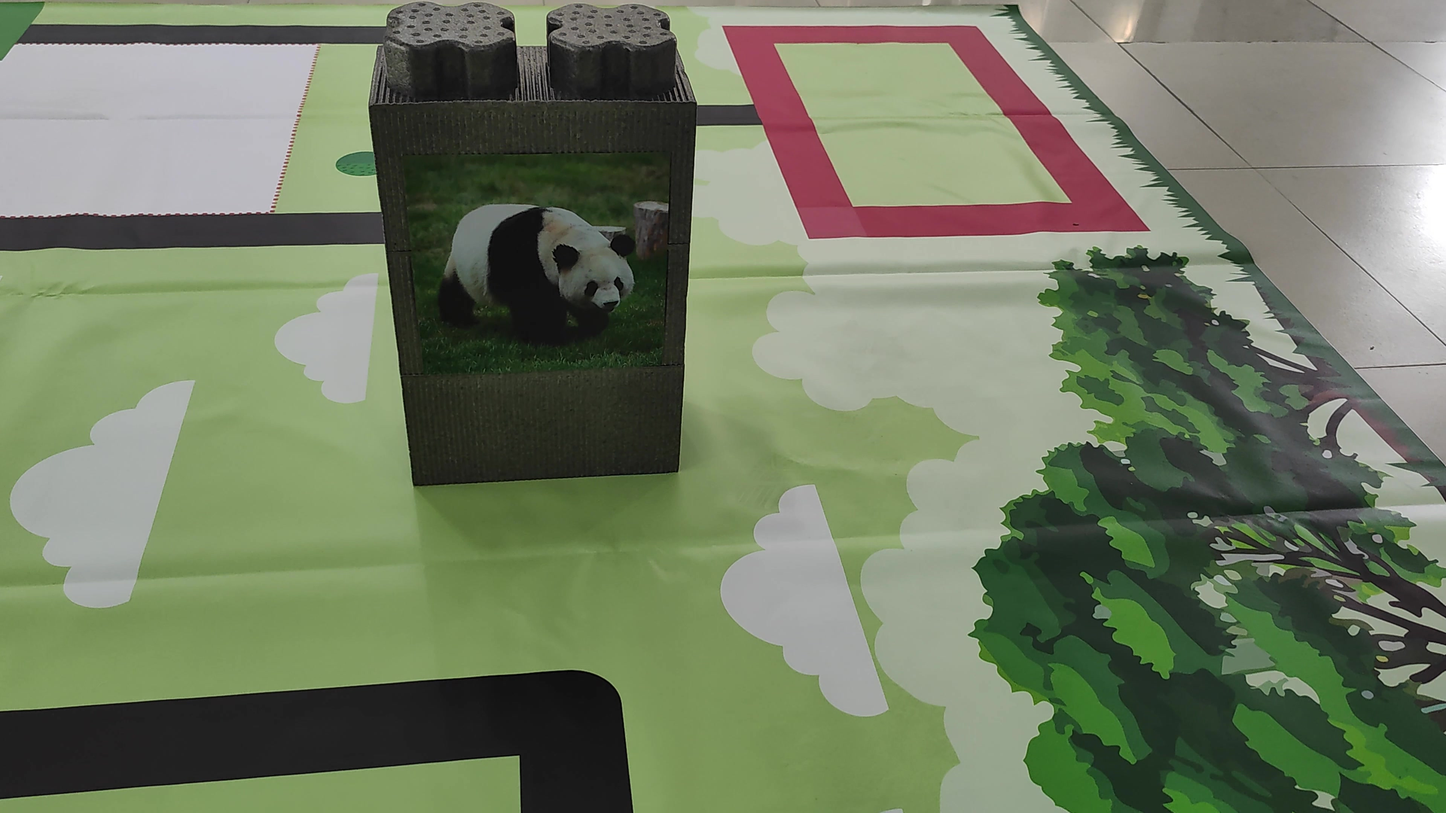panda: (417, 158, 650, 378)
